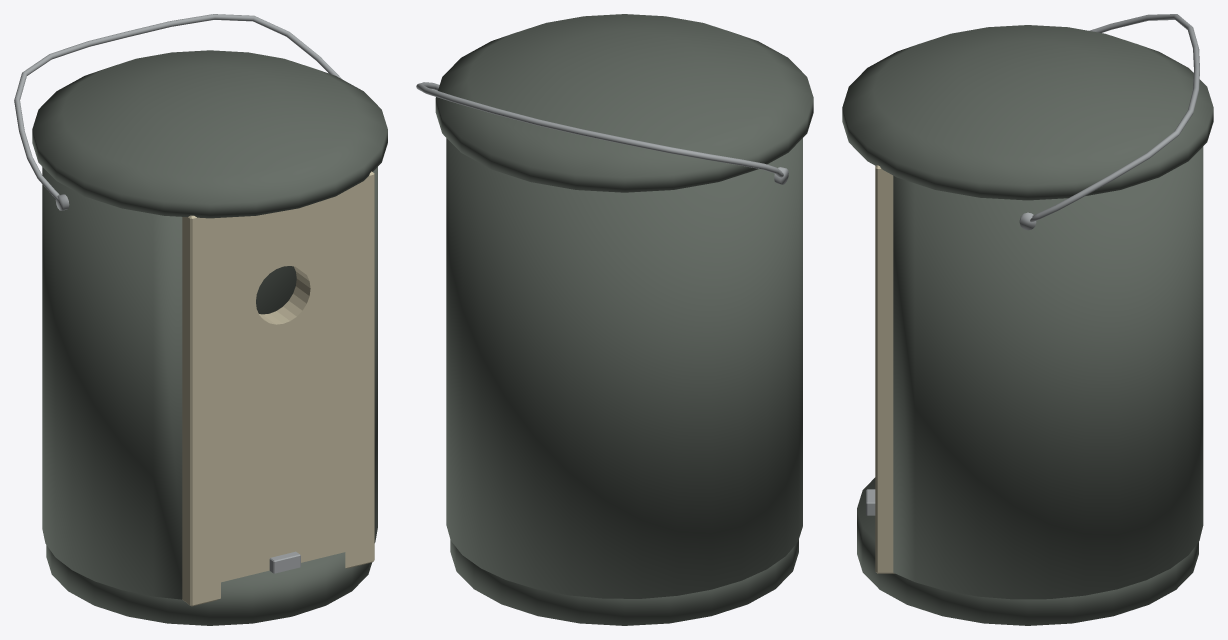
Rendered from full.glb.
3 renders of one model, left to right at view 1: azimuth 30°, elevation 25°; view 2: azimuth 150°, elevation 25°; view 3: azimuth 270°, elevation 25°, orthographic. The views are drawn at different scales.
Visible parts, largest first — view 1: Recessed removable front panel, Thick curved chamber wall, Overhanging domed roof, Closed chamber floor, Bent wire hanging loop, Generic front retaining tab; view 2: Thick curved chamber wall, Overhanging domed roof, Closed chamber floor, Bent wire hanging loop; view 3: Thick curved chamber wall, Overhanging domed roof, Closed chamber floor, Recessed removable front panel, Bent wire hanging loop.
Boxes of the visible parts, <box> form: Recessed removable front panel: <box>182,171,374,606</box>; Thick curved chamber wall: <box>42,167,377,599</box>; Overhanging domed roof: <box>32,50,387,218</box>; Closed chamber floor: <box>46,545,371,625</box>; Bent wire hanging loop: <box>14,14,342,201</box>; Generic front retaining tab: <box>269,551,300,573</box>; Thick curved chamber wall: <box>446,138,802,598</box>; Overhanging domed roof: <box>435,14,813,192</box>; Closed chamber floor: <box>450,540,798,625</box>; Bent wire hanging loop: <box>416,82,783,177</box>; Thick curved chamber wall: <box>893,147,1203,599</box>; Overhanging domed roof: <box>842,25,1213,200</box>; Closed chamber floor: <box>857,477,1198,625</box>; Recessed removable front panel: <box>875,165,894,573</box>; Bent wire hanging loop: <box>1030,14,1199,221</box>.
Bounding box in the file's own units: 0.1856 × 0.2606 × 0.18.
